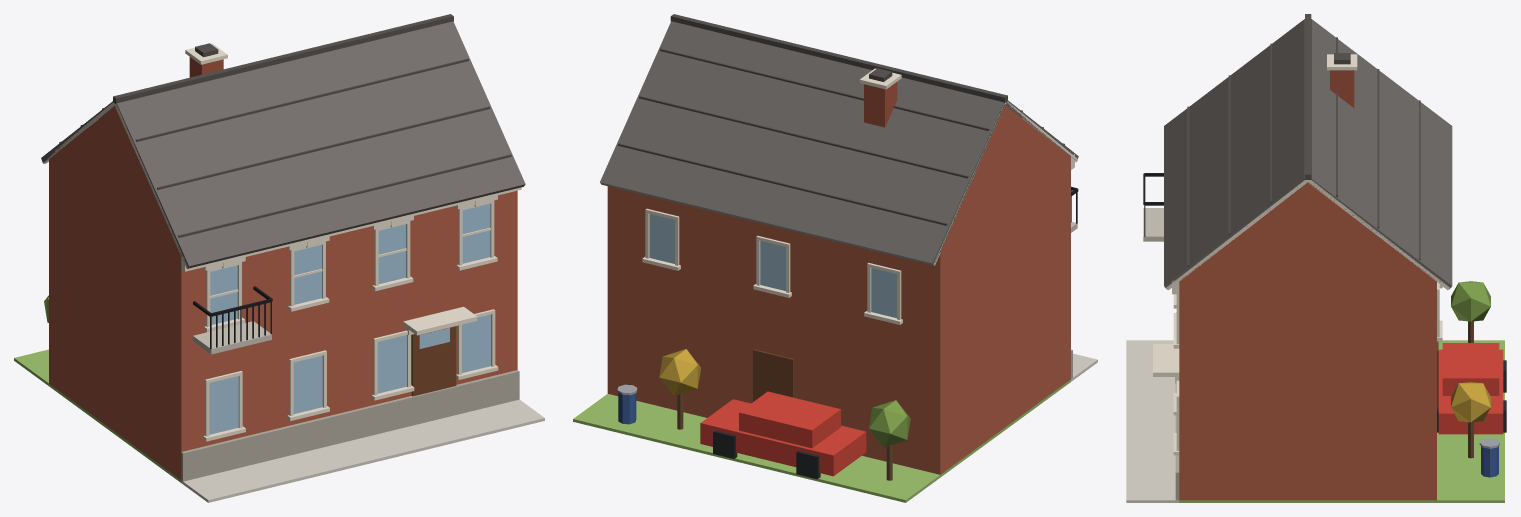
Rendered from Blok_duz_2k_2_Hafif.fbx.
The picture shows the model from 3 angles, left to right: view 1: azimuth 30°, elevation 25°; view 2: azimuth 150°, elevation 25°; view 3: azimuth 270°, elevation 25°; orthographic projection. The views are drawn at different scales.
Parts seen in each view (by area): view 1: Blok_duz_2k_2_Hafif; view 2: Blok_duz_2k_2_Hafif; view 3: Blok_duz_2k_2_Hafif.
Boxes of the visible parts, left/top/right/bottom form: Blok_duz_2k_2_Hafif: left=14, top=14, right=544, bottom=502; Blok_duz_2k_2_Hafif: left=573, top=14, right=1097, bottom=502; Blok_duz_2k_2_Hafif: left=1126, top=14, right=1506, bottom=502.
Bounding box in the file's own units: 10.04 × 9.86 × 10.04.
